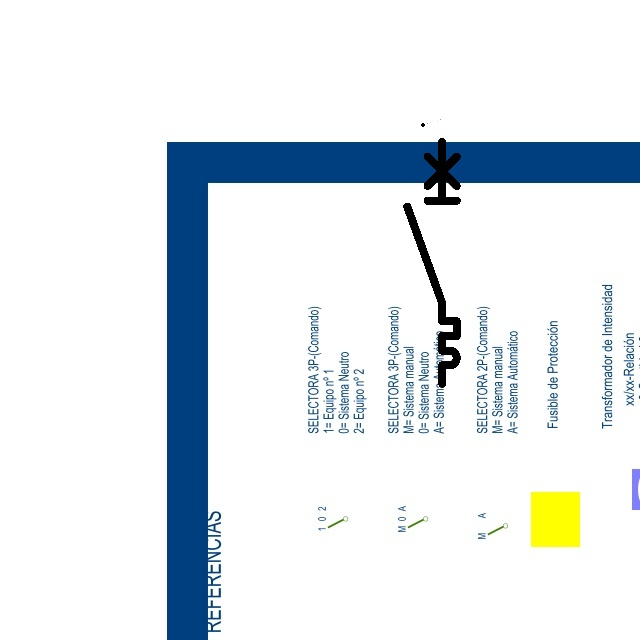interruptor_termomagnetico: (401, 135, 463, 389)
